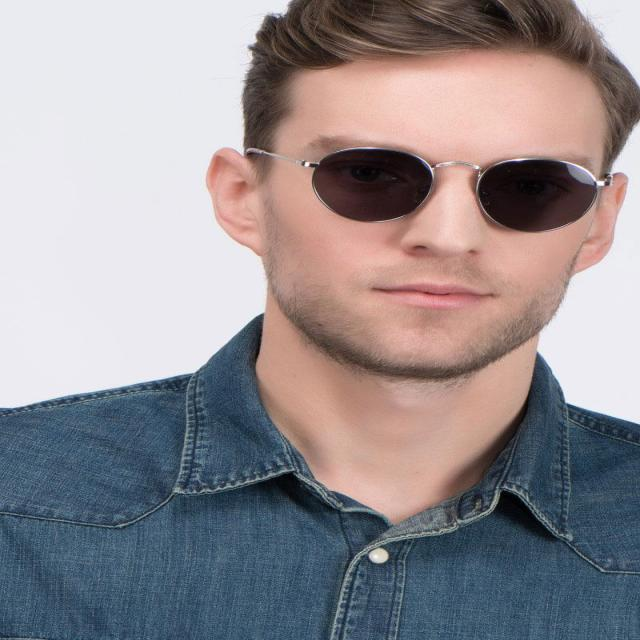2_gafas: (242, 145, 614, 233)
